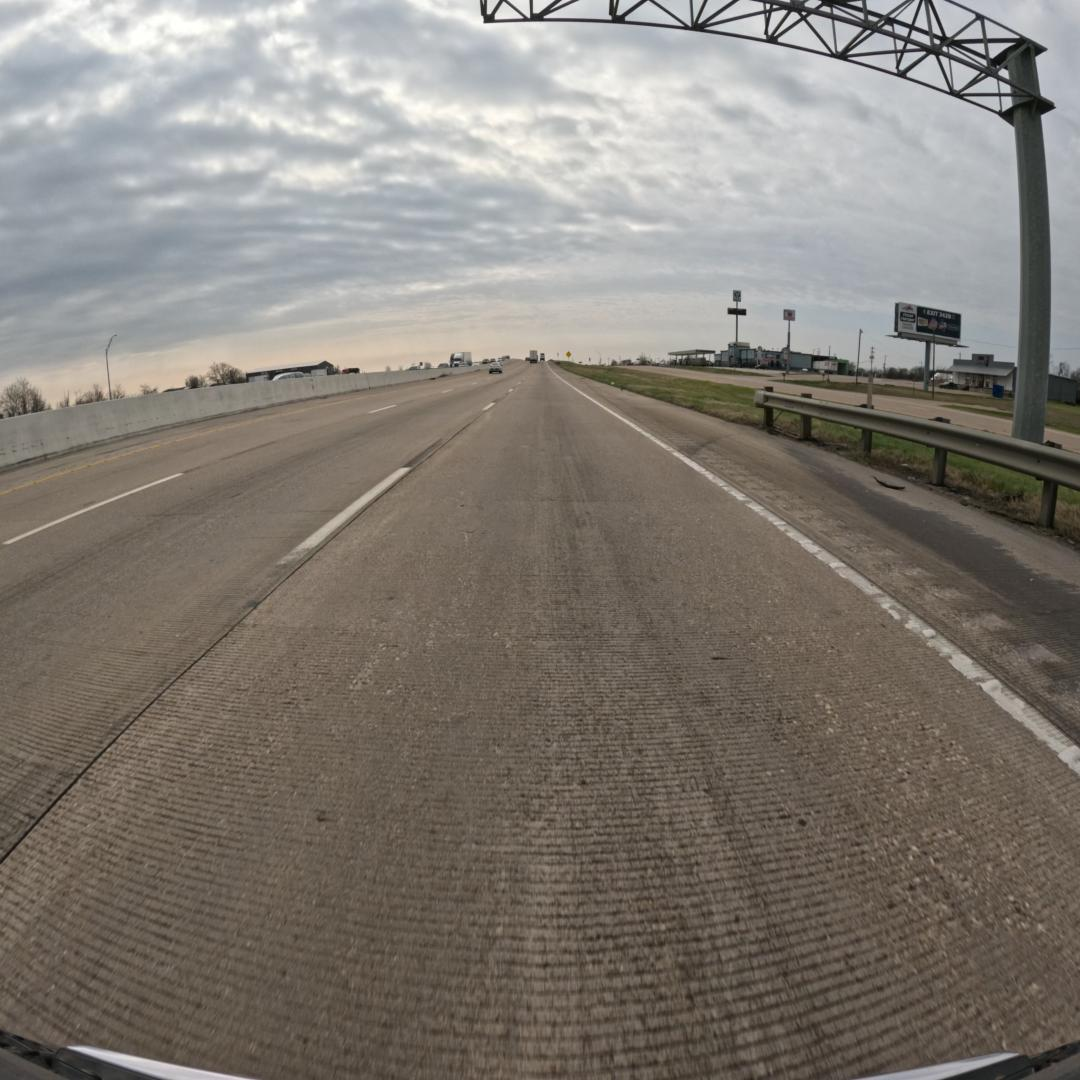lane0: (0, 369, 1080, 1077)
lane1: (0, 373, 521, 861)
